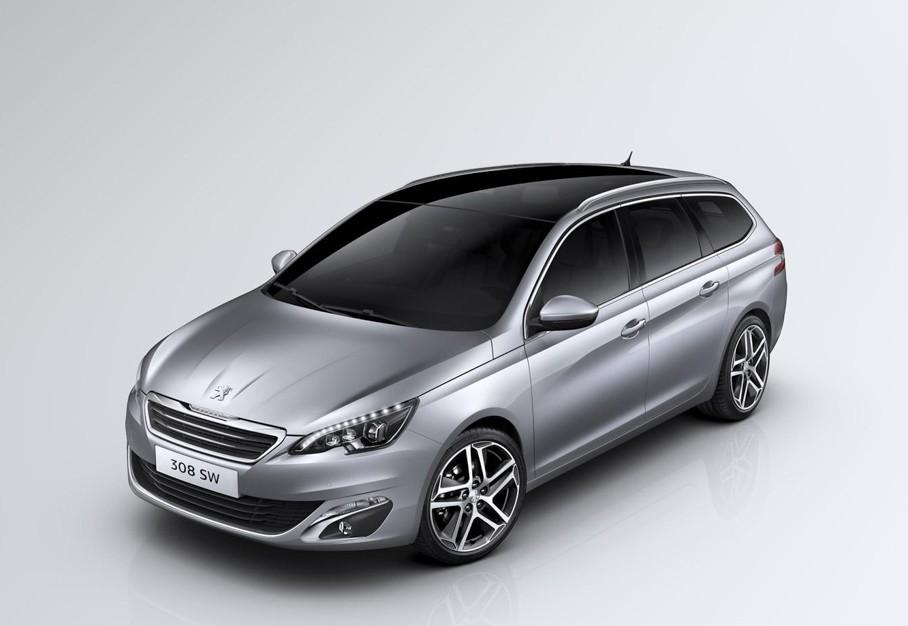Wagon: (124, 162, 787, 568)
